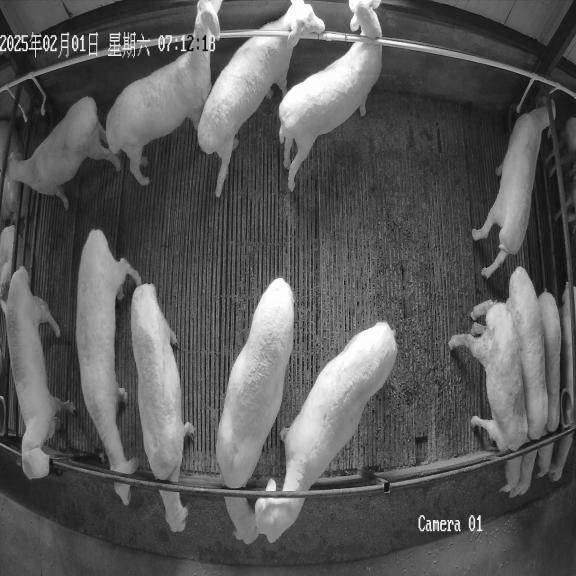drinking: (472, 95, 556, 278)
eating: (216, 278, 294, 544), (76, 230, 141, 505), (131, 284, 194, 531), (449, 300, 529, 492), (506, 267, 548, 497), (538, 290, 561, 480)
stand: (255, 322, 397, 542), (196, 0, 325, 197), (106, 0, 223, 186), (279, 0, 382, 191), (2, 267, 75, 479), (6, 97, 121, 210)
